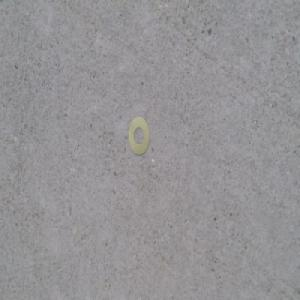Washer: (128, 117, 151, 157)
